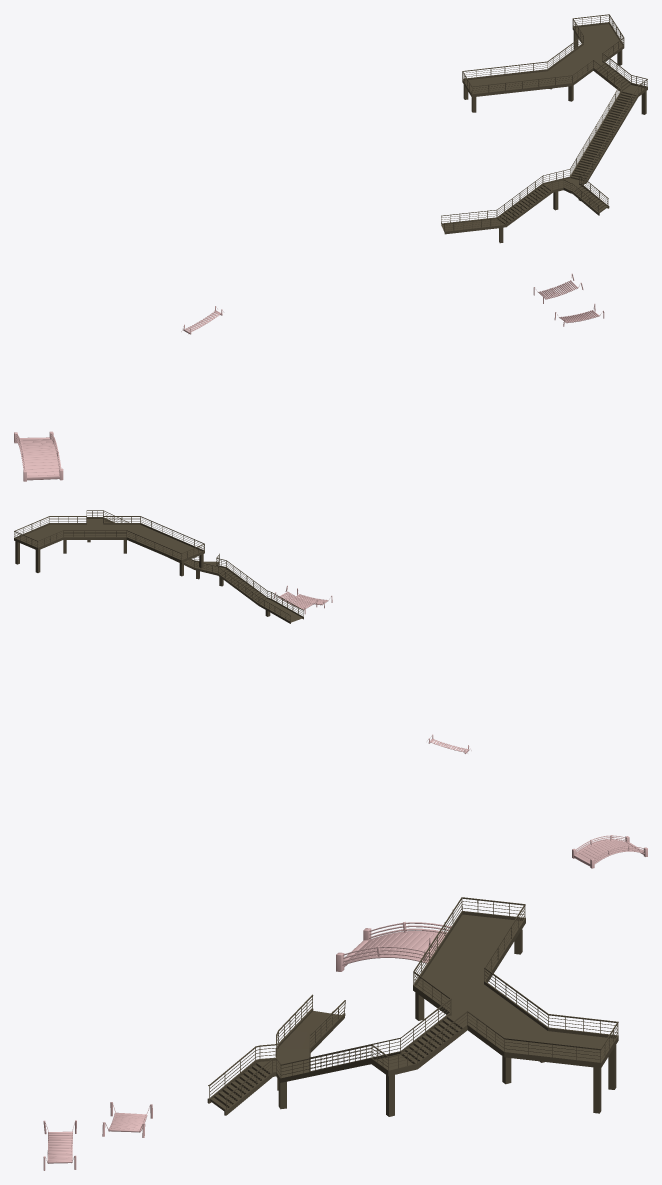
Rendered from wood.fbx.
3 renders of one model, top to bottom at view 1: azimuth 30°, elevation 25°; view 2: azimuth 150°, elevation 25°; view 3: azimuth 270°, elevation 25°, orthographic. The views are drawn at different scales.
Parts seen in each view (by area): view 1: Object044, big_bridge(XO); view 2: Object044, big_bridge(XO); view 3: Object044, big_bridge(XO), small_bridge01, small_bridge02.
Boxes of the visible parts, x1,y1,x2,y2 form: Object044: [441, 14, 647, 243]; big_bridge(XO): [14, 431, 63, 481]; Object044: [14, 510, 303, 623]; big_bridge(XO): [572, 835, 647, 868]; Object044: [207, 897, 618, 1116]; big_bridge(XO): [336, 922, 451, 971]; small_bridge01: [43, 1120, 76, 1170]; small_bridge02: [102, 1102, 152, 1137].
Size of the model in its own units: 80206 by 30454 by 34737.
